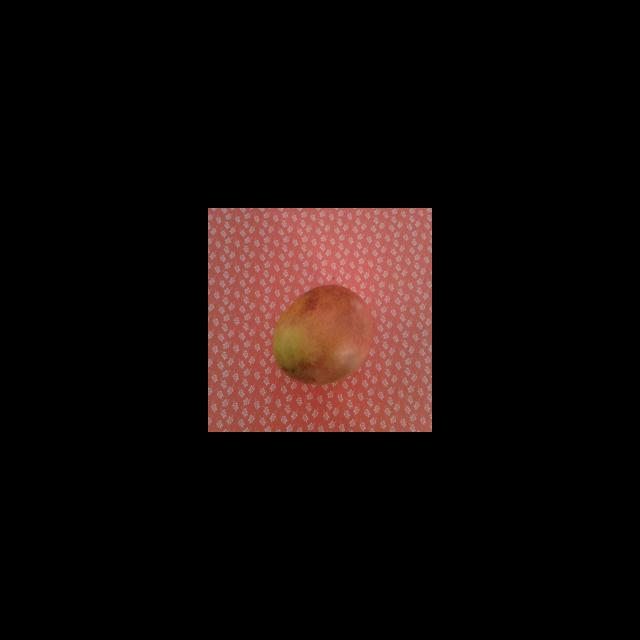Mango: (271, 283, 376, 385)
